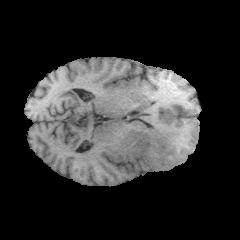glioma: (127, 107, 182, 169)
